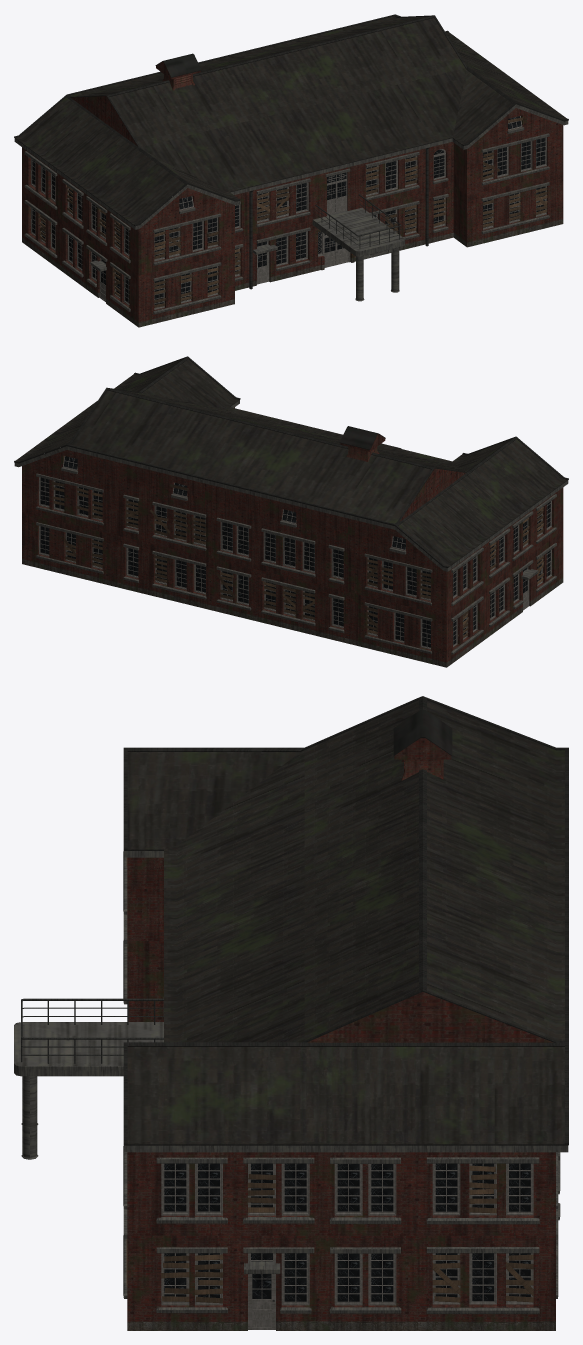
The model's file is building.glb.
3 renders of one model, top to bottom at view 1: azimuth 30°, elevation 25°; view 2: azimuth 150°, elevation 25°; view 3: azimuth 270°, elevation 25°, orthographic. The views are drawn at different scales.
Parts seen in each view (by area): view 1: JejungwonHospital_WallRoof, JejungwonHospital_Etc, boards; view 2: JejungwonHospital_WallRoof, JejungwonHospital_Etc, boards; view 3: JejungwonHospital_WallRoof, JejungwonHospital_Etc, boards.
Boxes of the visible parts, box(x1,y1,x2,y2) form: JejungwonHospital_WallRoof: box(15, 16, 566, 327); JejungwonHospital_Etc: box(14, 14, 568, 314); boards: box(39, 117, 551, 307); JejungwonHospital_WallRoof: box(16, 359, 567, 667); JejungwonHospital_Etc: box(14, 356, 568, 654); boards: box(52, 482, 546, 638); JejungwonHospital_WallRoof: box(127, 700, 564, 1330); JejungwonHospital_Etc: box(14, 696, 568, 1329); boards: box(126, 858, 533, 1303).
Size of the model in its own units: 30.94 by 12.27 by 18.47.
Materials: 3 (3 with a texture image).
